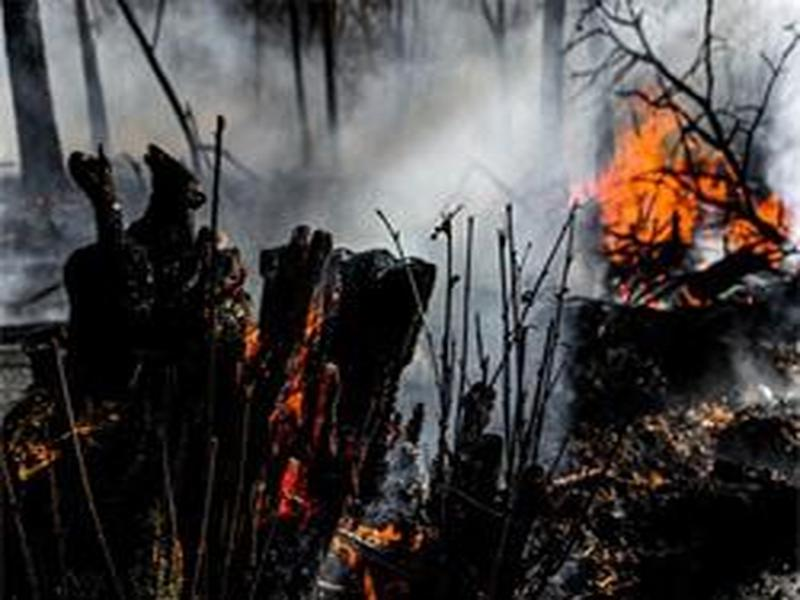FIRE: (35, 110, 785, 593)
